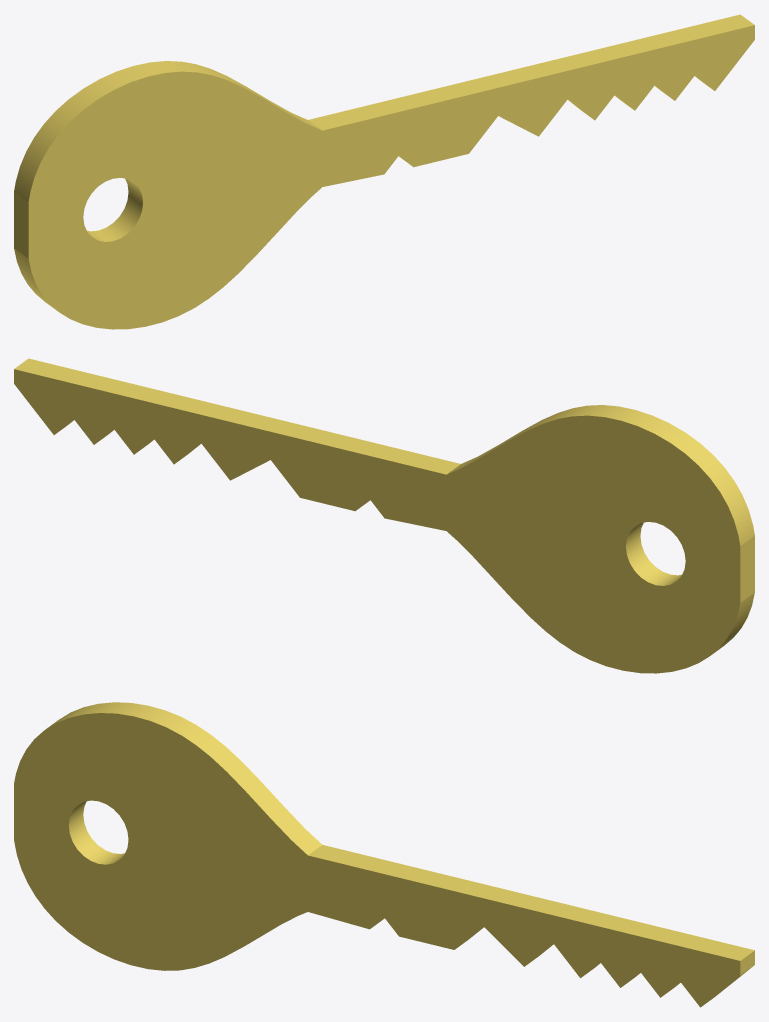
Rendered from key_en_leton.glb.
3 renders of one model, top to bottom at view 1: azimuth 30°, elevation 25°; view 2: azimuth 150°, elevation 25°; view 3: azimuth 330°, elevation 25°, orthographic.
Parts seen in each view (by area): view 1: key_en_leton.SLDPRT; view 2: key_en_leton.SLDPRT; view 3: key_en_leton.SLDPRT.
Boxes of the visible parts, bbox=[...] form: key_en_leton.SLDPRT: bbox=[14, 14, 754, 329]; key_en_leton.SLDPRT: bbox=[14, 358, 754, 673]; key_en_leton.SLDPRT: bbox=[14, 702, 754, 1007].
Size of the model in its own units: 0.1438 by 0.0472 by 0.005.
